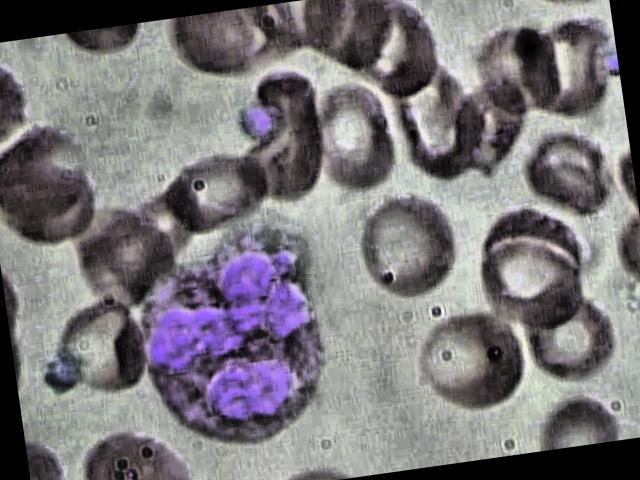RBC: (472, 214, 590, 332), (347, 188, 464, 306), (417, 304, 528, 416), (520, 6, 624, 119), (514, 115, 617, 225), (518, 277, 621, 387), (162, 139, 274, 233), (311, 79, 403, 192), (76, 416, 196, 480)
WBC: (119, 216, 342, 462)
